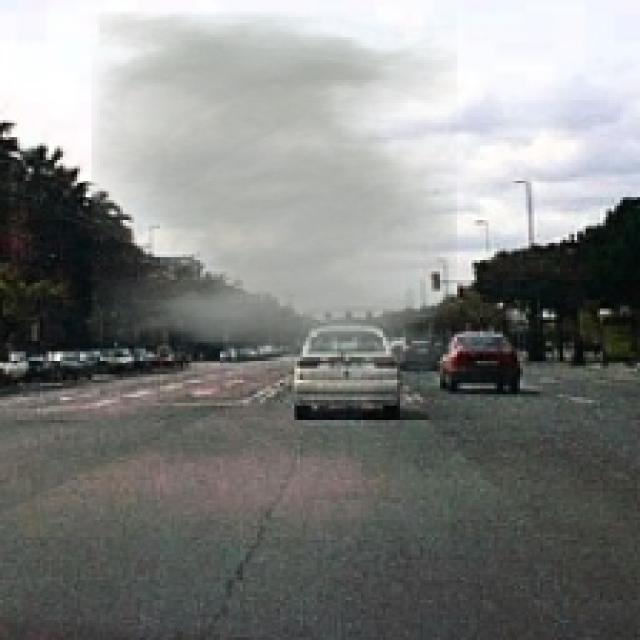Smoke: (92, 11, 457, 368)
